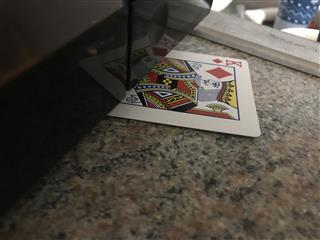KingOfDiamonds: (104, 49, 261, 137)
